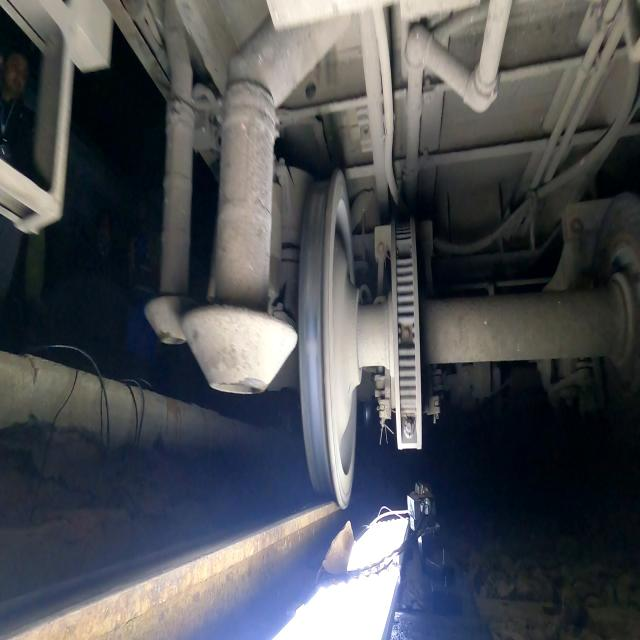Discoloration: (302, 309, 319, 338)
Shelling: (306, 249, 319, 300), (308, 192, 325, 223)
Wheel: (299, 169, 361, 509)
